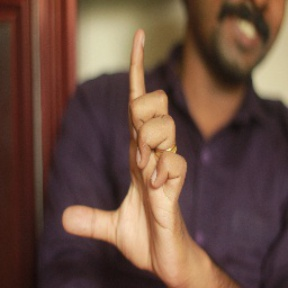L: (59, 28, 194, 270)
